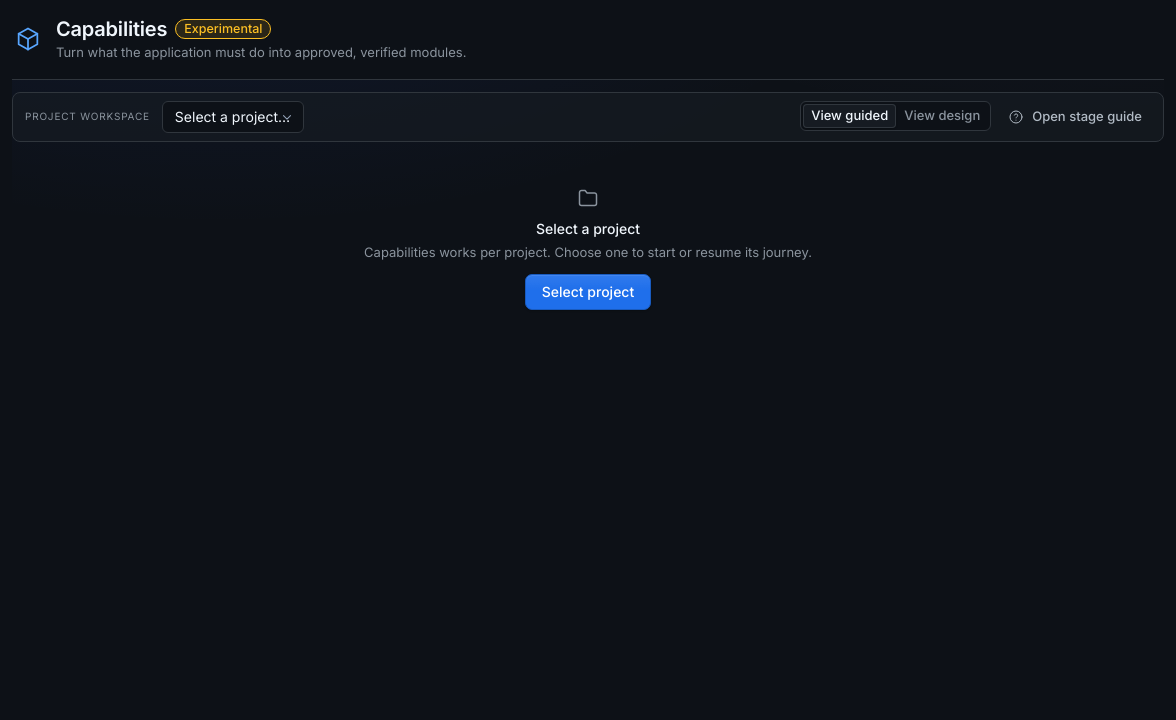
Test: project isolation › shows an error + Retry on failed load and never reveals the previous project
The width and height of the screenshot is (1176, 720).
Select "Project A" in the dropdown named "Capabilities project" at (233, 116), box [162,100,304,132]
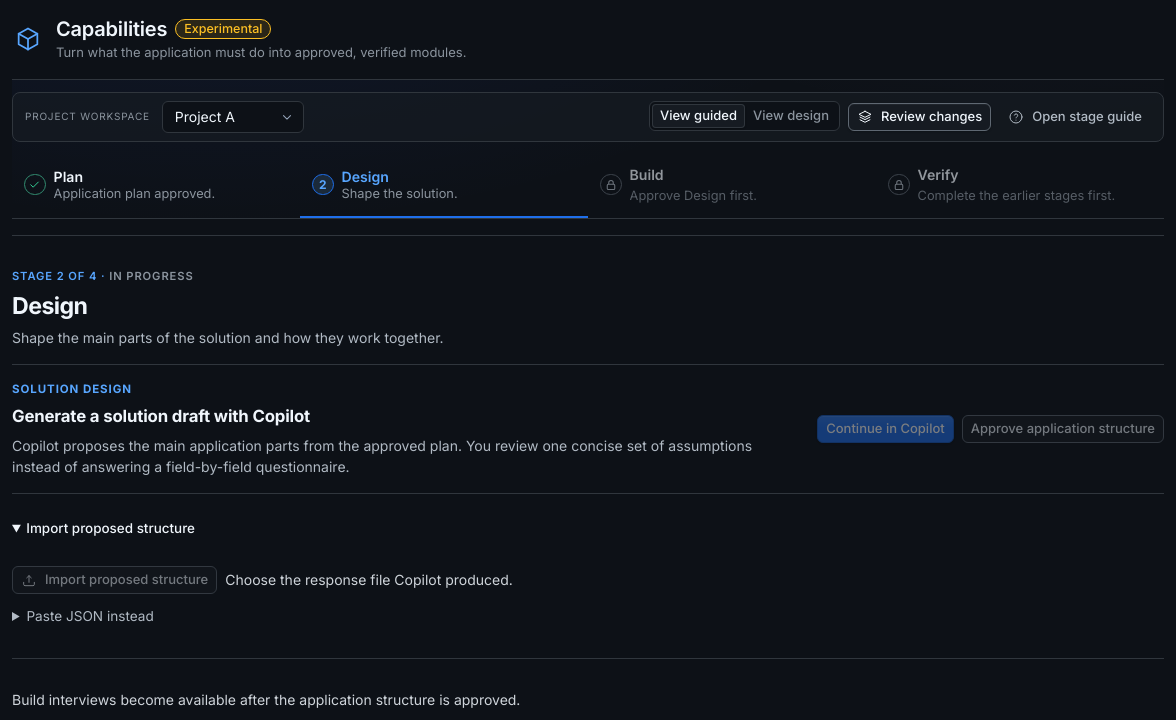
Expected: the text "Shape the solution." is shown, [342,186,458,201]
Select "Project B" in the dropdown named "Capabilities project" at (233, 116), box [162,100,304,132]
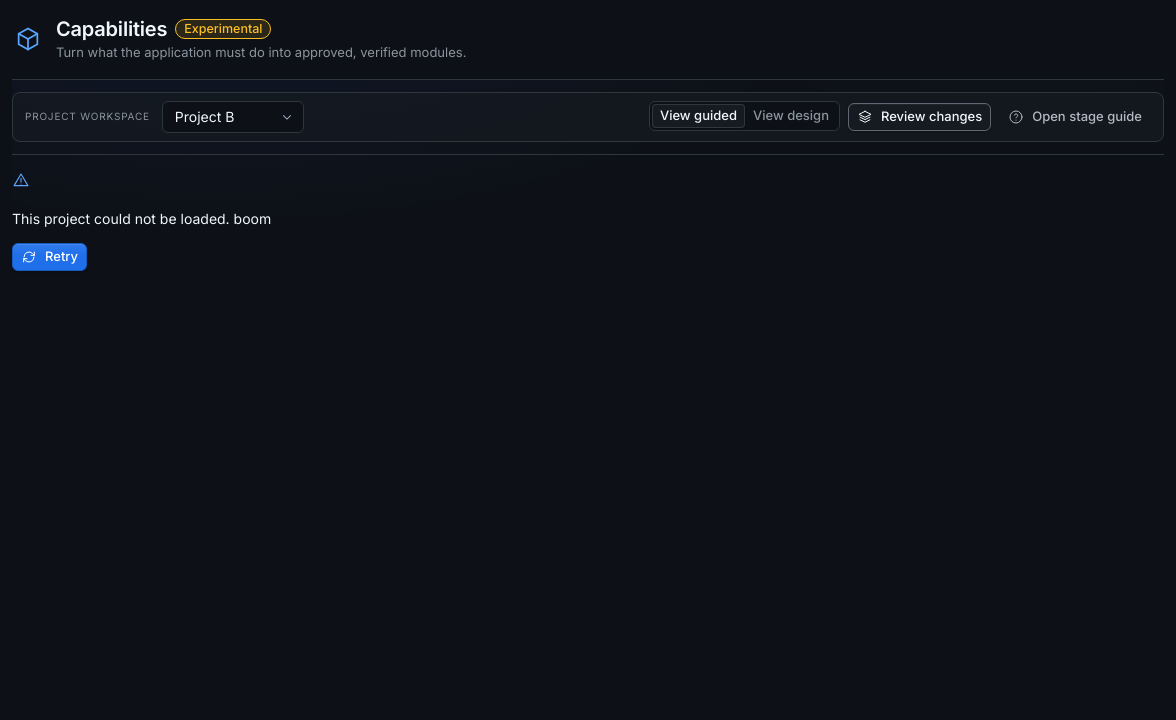
Expected: the button "Retry" is shown, [12,242,87,270]
Expected: the message shows "could not be loaded", [12,210,234,226]
Expected: the button "Shape the solution." is gone
